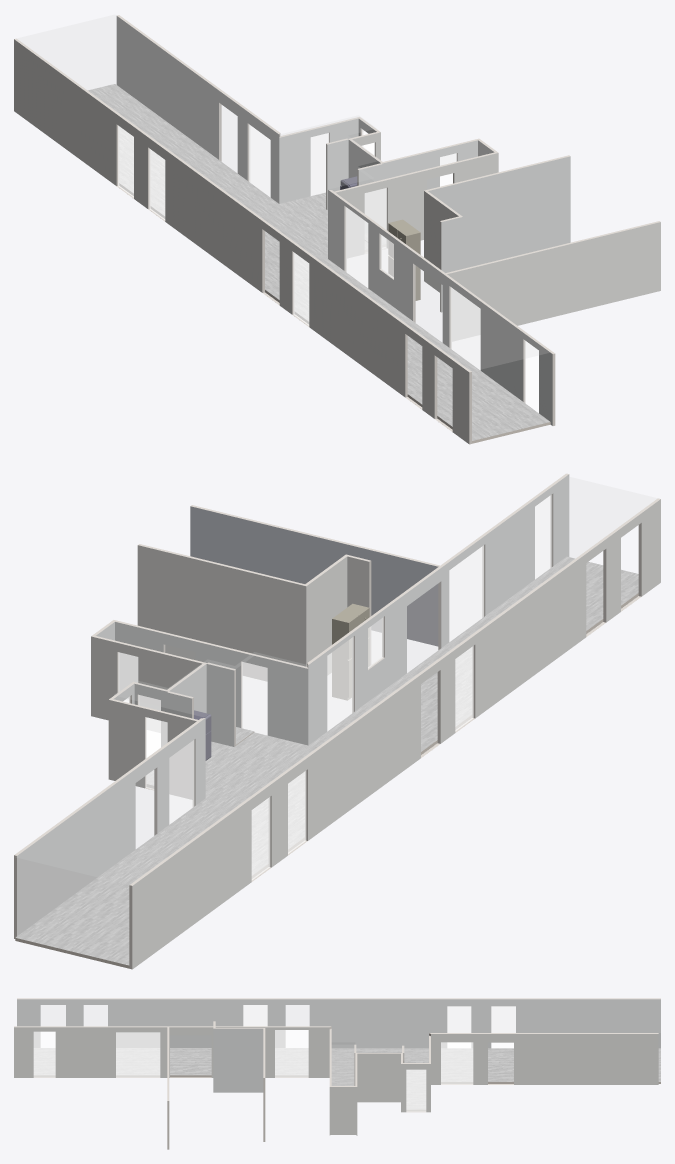
File: Corridor.glb
The picture shows the model from 3 angles, top to bottom: view 1: azimuth 30°, elevation 25°; view 2: azimuth 150°, elevation 25°; view 3: azimuth 270°, elevation 25°; orthographic projection. The views are drawn at different scales.
Parts seen in each view (by area): view 1: wall_5 (×3), ceiling_Kitchen_0, ceiling_Other_1 (×2), wall_10, wall_8, floor_Kitchen_0, wall_6, floor_Other_1, wall_1 (×2), wall_13, wall_2, door_2 (×2) (+17 smaller); view 2: wall_5 (×3), ceiling_Kitchen_0, ceiling_Other_1 (×2), floor_Kitchen_0, wall_8, wall_6 (×2), wall_10, wall_1, wall_13, floor_Other_1, wall_2, door_2 (×2) (+16 smaller); view 3: wall_5 (×2), ceiling_Kitchen_0, wall_6, ceiling_Other_1 (×2), wall_1 (×2), floor_Kitchen_0, floor_Other_1 (×2), door_2 (×2), wall_12, door_1 (×2), door_11 (×2), wall_2 (×2) (+9 smaller).
Boxes of the visible parts, x1=… form: wall_5 (×3): x1=14, y1=38, x2=471, y2=444; ceiling_Kitchen_0: x1=18, y1=15, x2=379, y2=208; ceiling_Other_1 (×2): x1=251, y1=190, x2=549, y2=370; wall_10: x1=447, y1=222, x2=660, y2=341; wall_8: x1=428, y1=156, x2=570, y2=268; floor_Kitchen_0: x1=88, y1=84, x2=367, y2=274; wall_6: x1=116, y1=16, x2=279, y2=203; floor_Other_1: x1=265, y1=259, x2=549, y2=440; wall_1 (×2): x1=443, y1=274, x2=555, y2=425; wall_13: x1=336, y1=153, x2=498, y2=258; wall_2: x1=328, y1=190, x2=442, y2=342; door_2 (×2): x1=451, y1=287, x2=480, y2=369; wall_5 (×3): x1=129, y1=498, x2=660, y2=969; ceiling_Kitchen_0: x1=17, y1=652, x2=398, y2=884; ceiling_Other_1 (×2): x1=310, y1=476, x2=656, y2=686; floor_Kitchen_0: x1=15, y1=732, x2=316, y2=965; wall_8: x1=137, y1=545, x2=306, y2=681; wall_6 (×2): x1=14, y1=718, x2=205, y2=938; wall_10: x1=190, y1=506, x2=438, y2=646; wall_1: x1=441, y1=474, x2=569, y2=647; wall_13: x1=115, y1=622, x2=308, y2=745; floor_Other_1: x1=308, y1=556, x2=638, y2=751; wall_2: x1=308, y1=568, x2=441, y2=745; door_2 (×2): x1=449, y1=545, x2=483, y2=641; wall_5 (×2): x1=17, y1=998, x2=660, y2=1048; ceiling_Kitchen_0: x1=332, y1=999, x2=660, y2=1059; wall_6: x1=431, y1=1034, x2=658, y2=1084; ceiling_Other_1 (×2): x1=17, y1=999, x2=330, y2=1025; wall_1 (×2): x1=14, y1=1026, x2=169, y2=1077; floor_Kitchen_0: x1=331, y1=1048, x2=660, y2=1109; floor_Other_1 (×2): x1=34, y1=1048, x2=308, y2=1077; door_2 (×2): x1=116, y1=1032, x2=159, y2=1077; wall_12: x1=213, y1=1028, x2=263, y2=1092; door_1 (×2): x1=275, y1=1030, x2=308, y2=1077; door_11 (×2): x1=441, y1=1042, x2=472, y2=1084; wall_2 (×2): x1=169, y1=1026, x2=330, y2=1077.
Size of the model in its own units: 11.51 by 3.46 by 30.63.
Materials: 43 (3 with a texture image).
